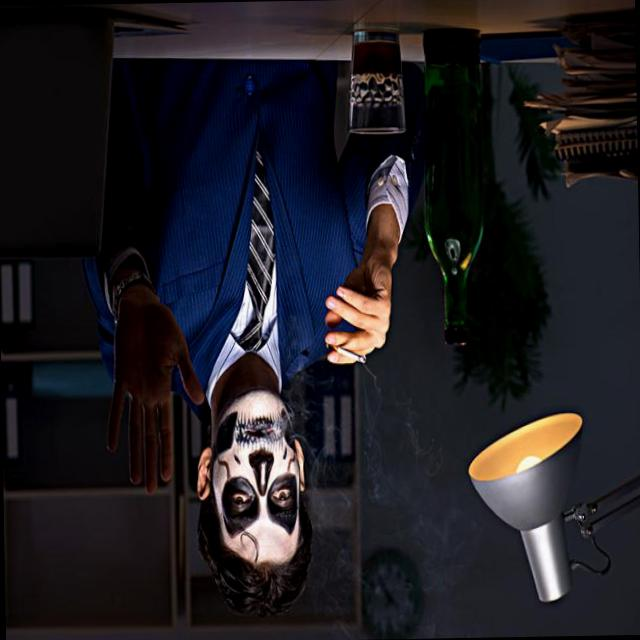cigarette: (326, 334, 372, 371)
